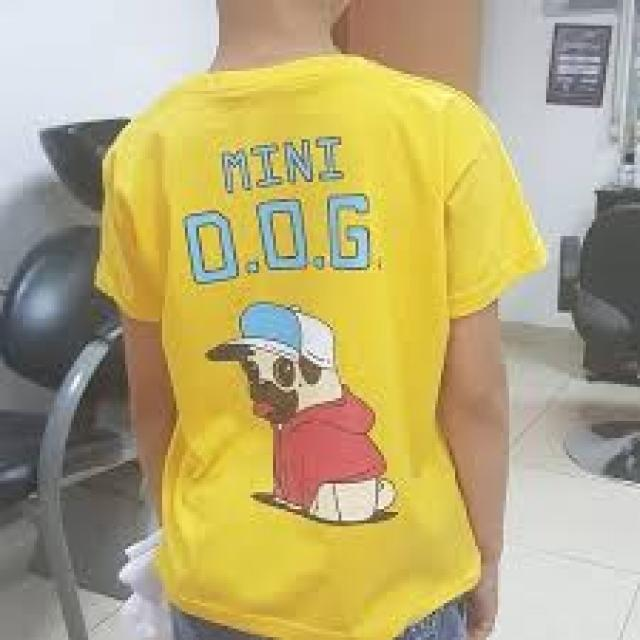Shirt: (68, 60, 556, 640)
